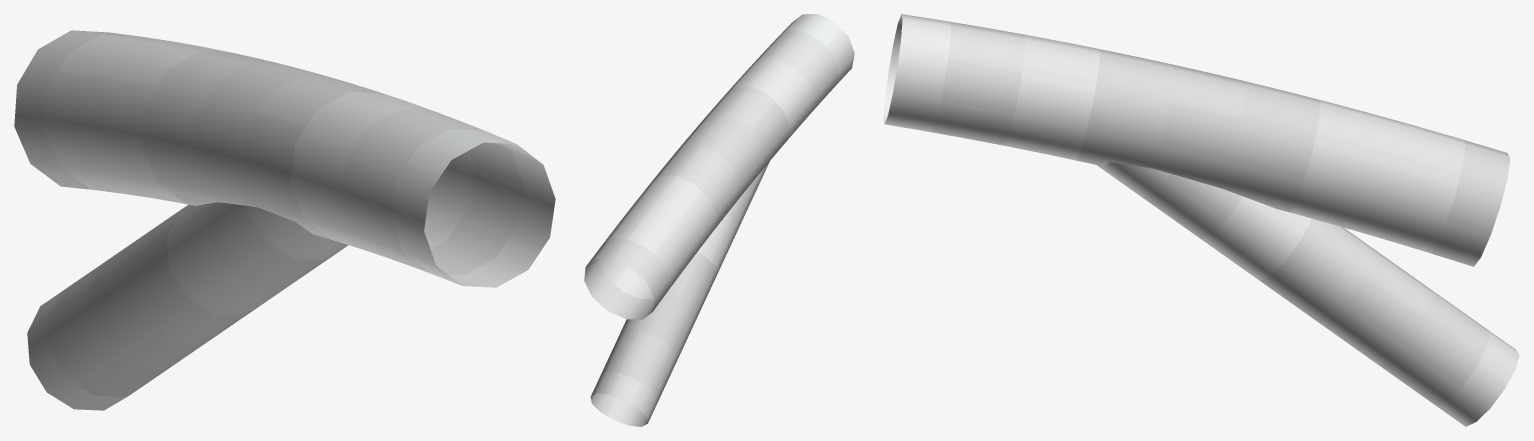
Rendered from luminairearm_truss10ftdouble_c13.obj.
3 views of the same model, side by side, from view 1: azimuth 30°, elevation 25°; view 2: azimuth 150°, elevation 25°; view 3: azimuth 270°, elevation 25° (orthographic). The views are drawn at different scales.
Visible parts, largest first — view 1: luminairearm_truss10ftdouble_c13; view 2: luminairearm_truss10ftdouble_c13; view 3: luminairearm_truss10ftdouble_c13.
Boxes of the visible parts, x1,y1,x2,y2 form: luminairearm_truss10ftdouble_c13: (14,30,555,410); luminairearm_truss10ftdouble_c13: (584,14,854,426); luminairearm_truss10ftdouble_c13: (883,14,1519,426).
Bounding box in the file's own units: 0.2 × 0.7429 × 1.06.
